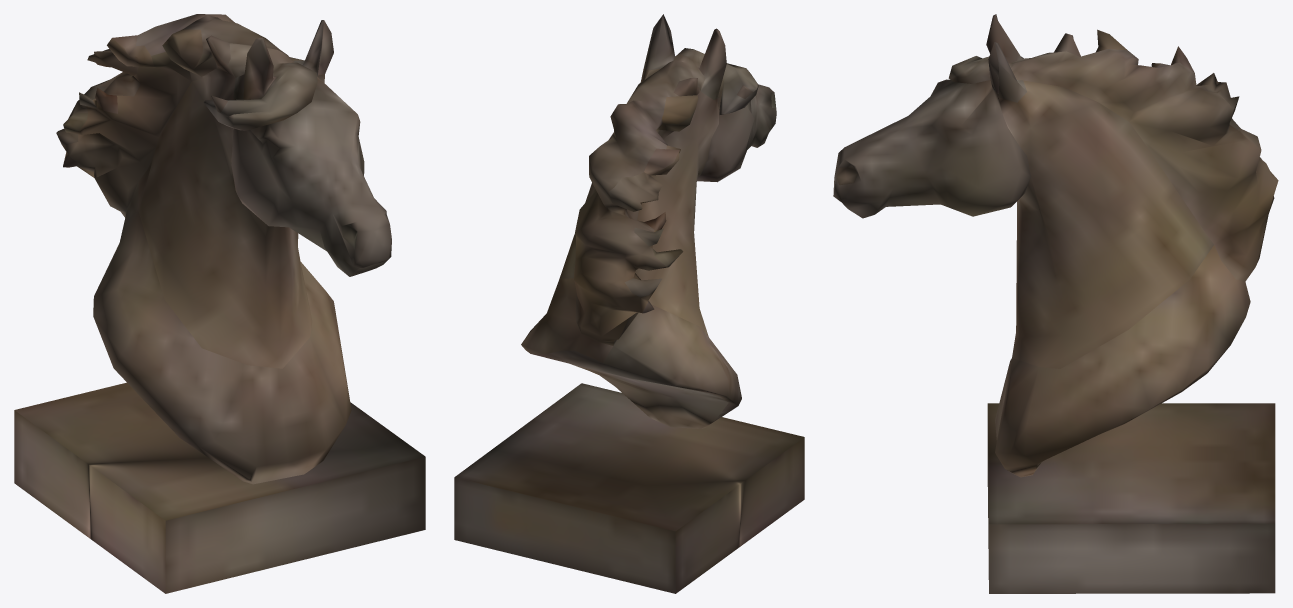
File: design-horse-head.glb
3 views of the same model, side by side, from view 1: azimuth 30°, elevation 25°; view 2: azimuth 150°, elevation 25°; view 3: azimuth 270°, elevation 25° (orthographic). The views are drawn at different scales.
Visible parts, largest first — view 1: horse_head; view 2: horse_head; view 3: horse_head.
Part boxes in pixels (x1=…): horse_head: x1=14, y1=14, x2=425, y2=593; horse_head: x1=454, y1=14, x2=804, y2=593; horse_head: x1=833, y1=14, x2=1278, y2=593.
Bounding box in the file's own units: 0.214 × 0.4171 × 0.3324.
1 material, 1 textured.
